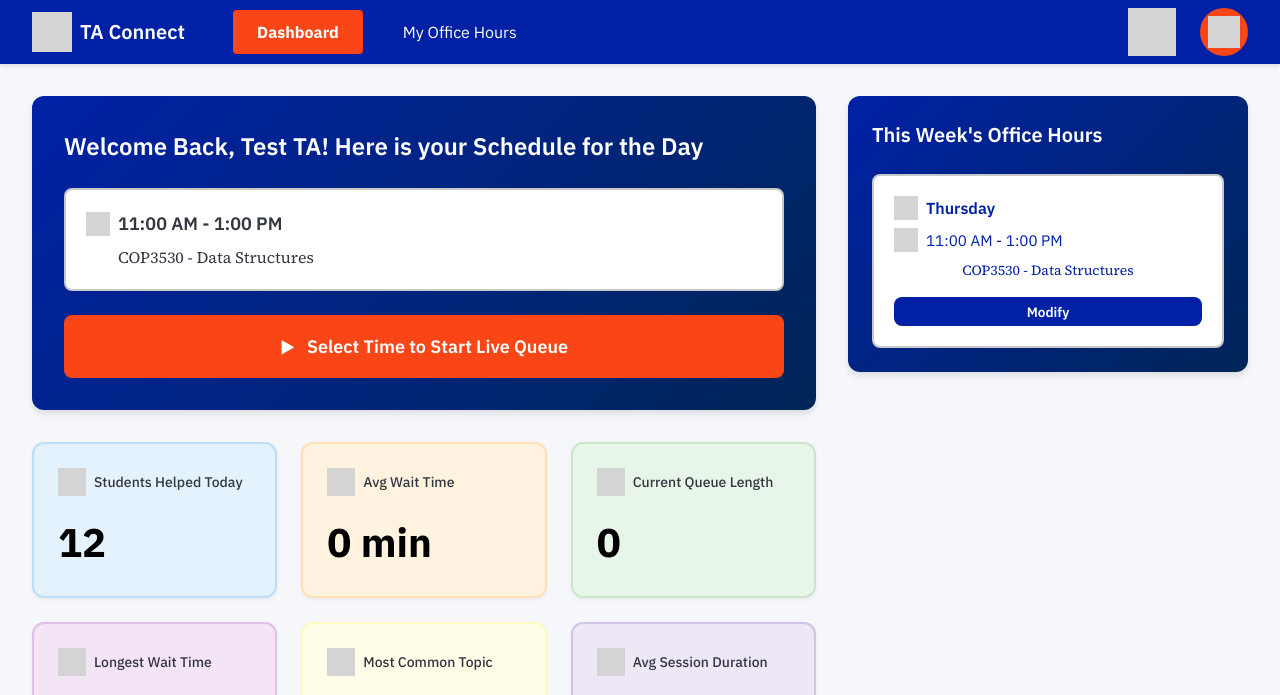
TADashboard page › shows session modal with Zoom details after starting session
The image size is (1280, 695).
Click the text "11:00 AM - 1:00 PM" below "Welcome Back,": [200, 224] box [118,210,282,237]
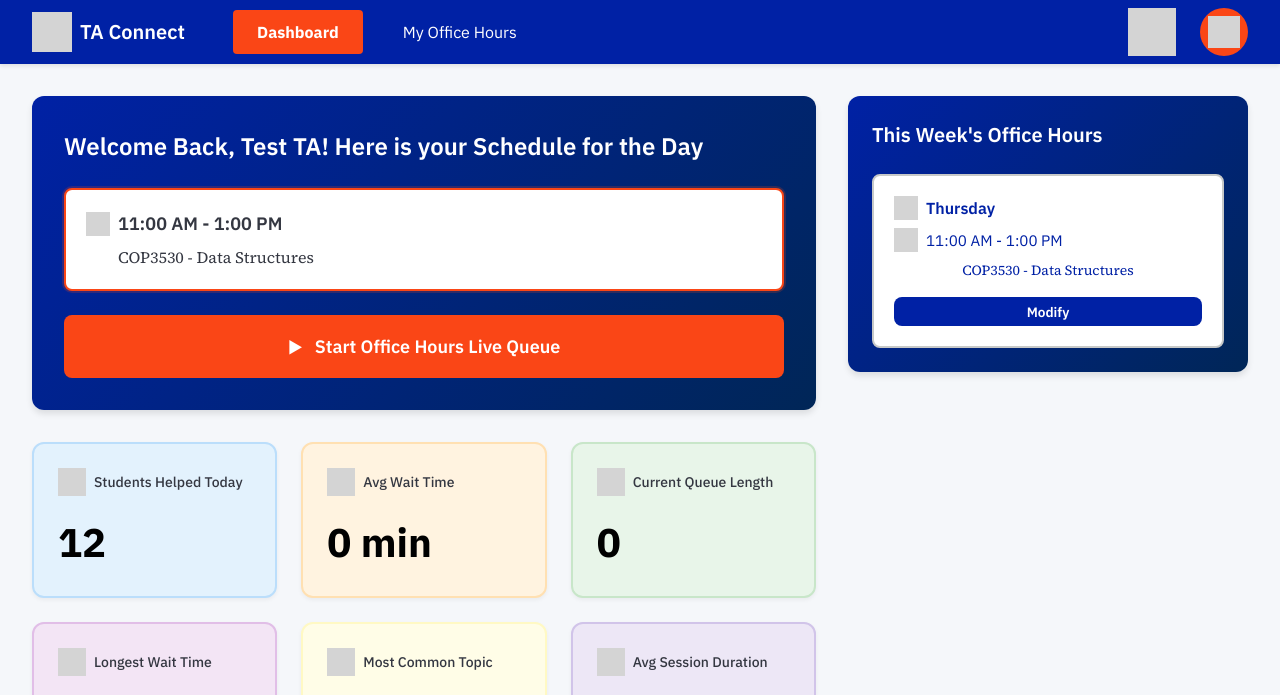
Click the button "▶ Start Office Hours Live Queue": [424, 346] box [64,315,784,378]
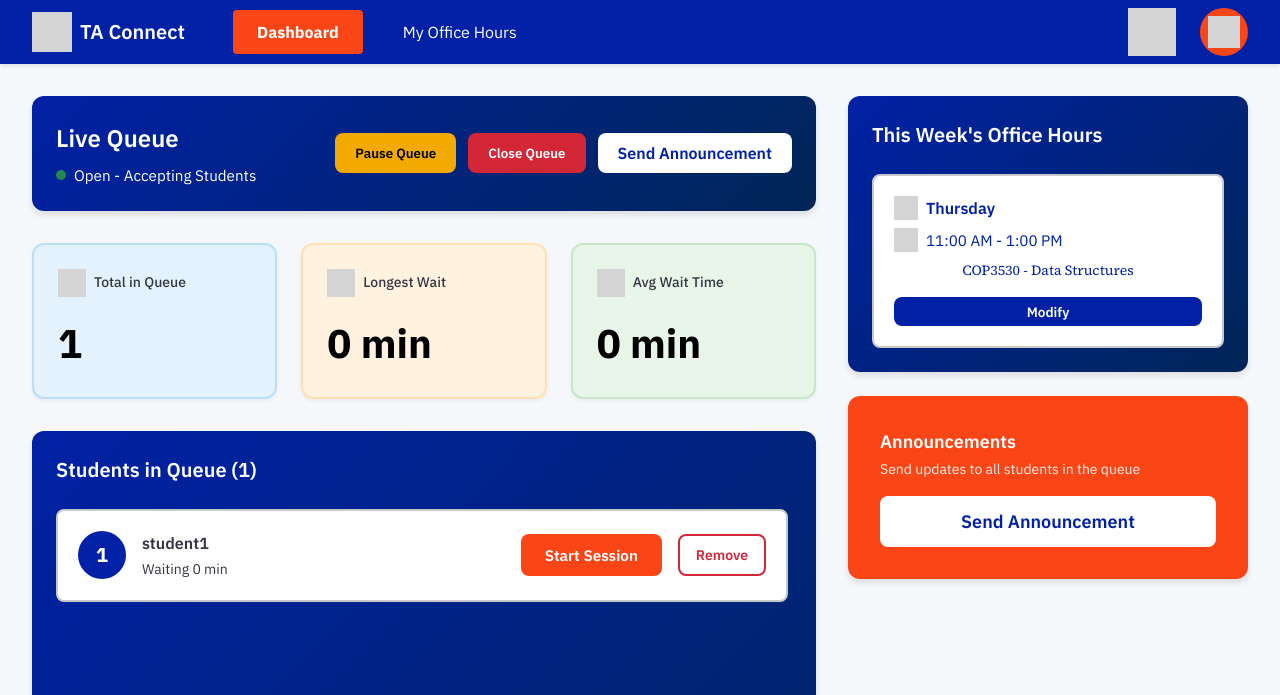
Expected: the text "student1" is shown, [142,533,209,553]
Click the button "Start Session": [591, 555] box [521,534,662,576]
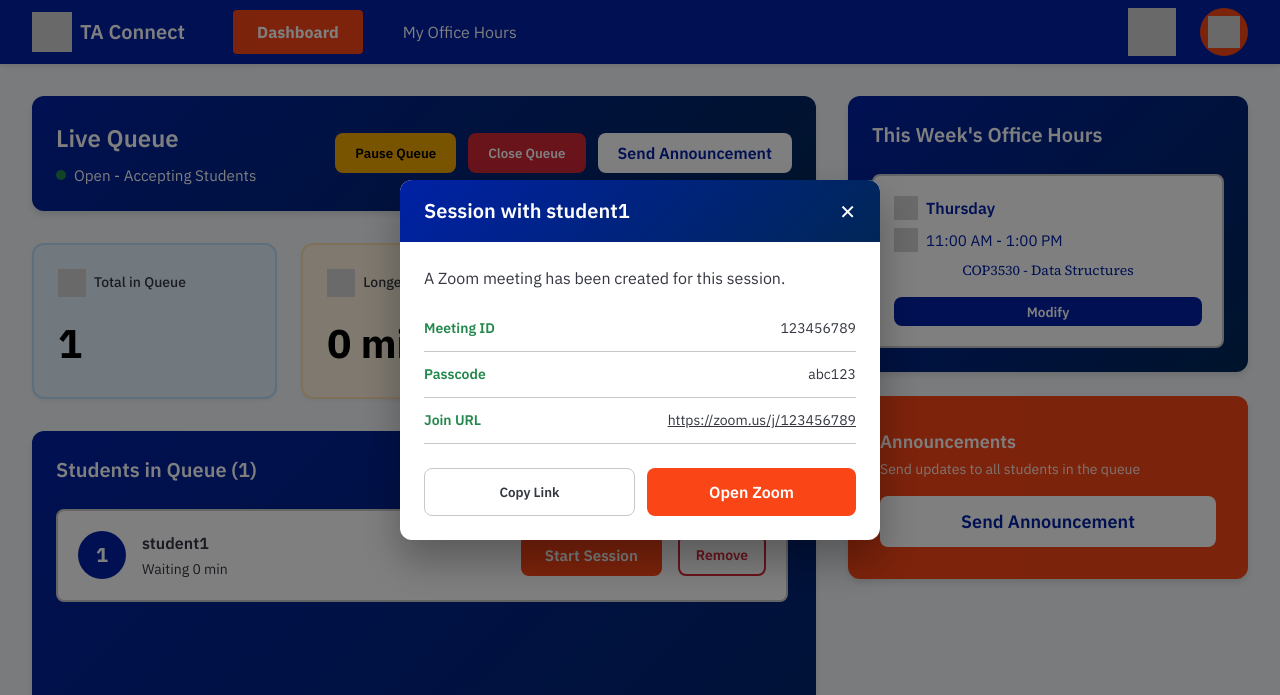
Expected: the heading "Session with student1" is shown, [424,196,630,226]
Expected: the text "123456789" is shown, [780,318,856,339]
